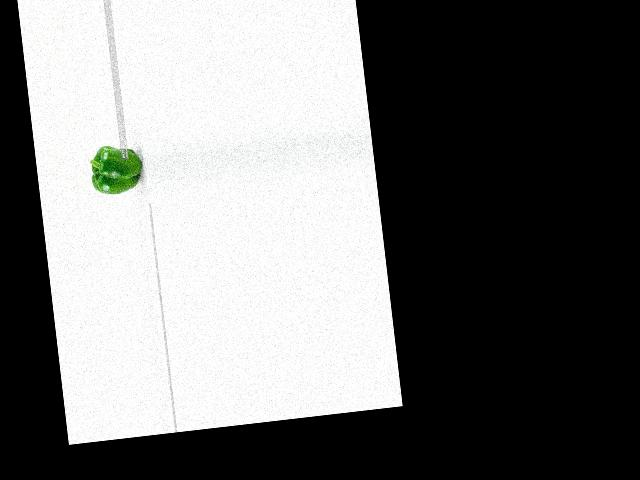bell_pepper: (85, 142, 147, 199)
